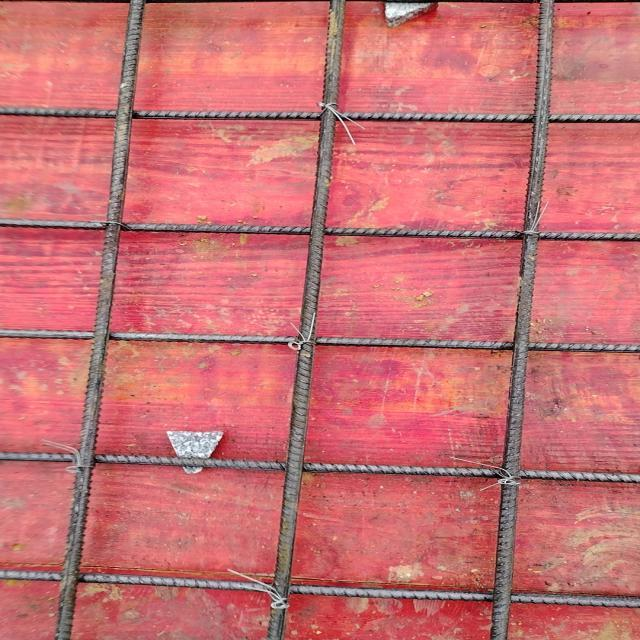ribbed bar: (54, 0, 146, 639), (266, 0, 350, 639), (489, 0, 557, 639), (1, 569, 640, 610), (1, 451, 640, 485), (1, 326, 640, 356), (1, 216, 640, 243), (1, 106, 640, 124)
